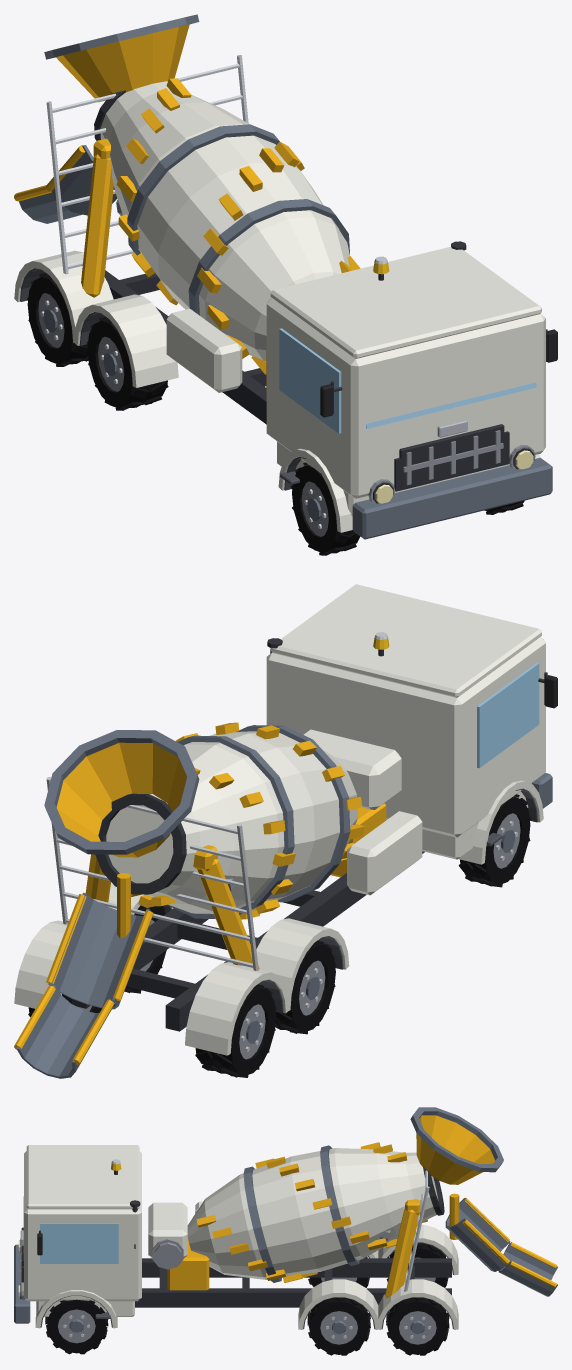
File: ConcreteTruck.glb
3 views of the same model, one above another, from view 1: azimuth 30°, elevation 25°; view 2: azimuth 150°, elevation 25°; view 3: azimuth 270°, elevation 25° (orthographic). The views are drawn at different scales.
Visible parts, largest first — view 1: Body, DrumMesh, WheelRR, WheelFR, WheelR2R, ChuteMesh, ChuteFoldMesh; view 2: Body, DrumMesh, ChuteMesh, ChuteFoldMesh, WheelR2R, WheelFR, WheelRR, WheelRL; view 3: Body, DrumMesh, WheelRL, WheelR2L, ChuteMesh, WheelFL, ChuteFoldMesh, WheelR2R, WheelRR.
Boxes of the visible parts, box(x1,y1,x2,y2) form: Body: box(14, 14, 557, 539); DrumMesh: box(94, 78, 360, 374); WheelRR: box(86, 316, 168, 410); WheelFR: box(290, 462, 360, 555); WheelR2R: box(27, 273, 88, 366); ChuteMesh: box(46, 145, 117, 215); ChuteFoldMesh: box(14, 185, 82, 223); Body: box(14, 584, 557, 1055); DrumMesh: box(95, 722, 364, 919); ChuteMesh: box(46, 873, 153, 1009); ChuteFoldMesh: box(14, 985, 114, 1078); WheelR2R: box(195, 984, 276, 1077); WheelFR: box(458, 794, 531, 887); WheelRR: box(275, 940, 336, 1034); WheelRL: box(124, 905, 166, 993); Body: box(14, 1107, 503, 1329); DrumMesh: box(187, 1142, 444, 1282); WheelRL: box(307, 1297, 370, 1355); WheelR2L: box(386, 1297, 449, 1355); ChuteMesh: box(445, 1193, 510, 1271); WheelFL: box(45, 1299, 108, 1354); ChuteFoldMesh: box(498, 1242, 557, 1296); WheelR2R: box(386, 1243, 448, 1287); WheelRR: box(308, 1257, 369, 1287).
Size of the model in its own units: 2.82 by 3.64 by 8.58.
